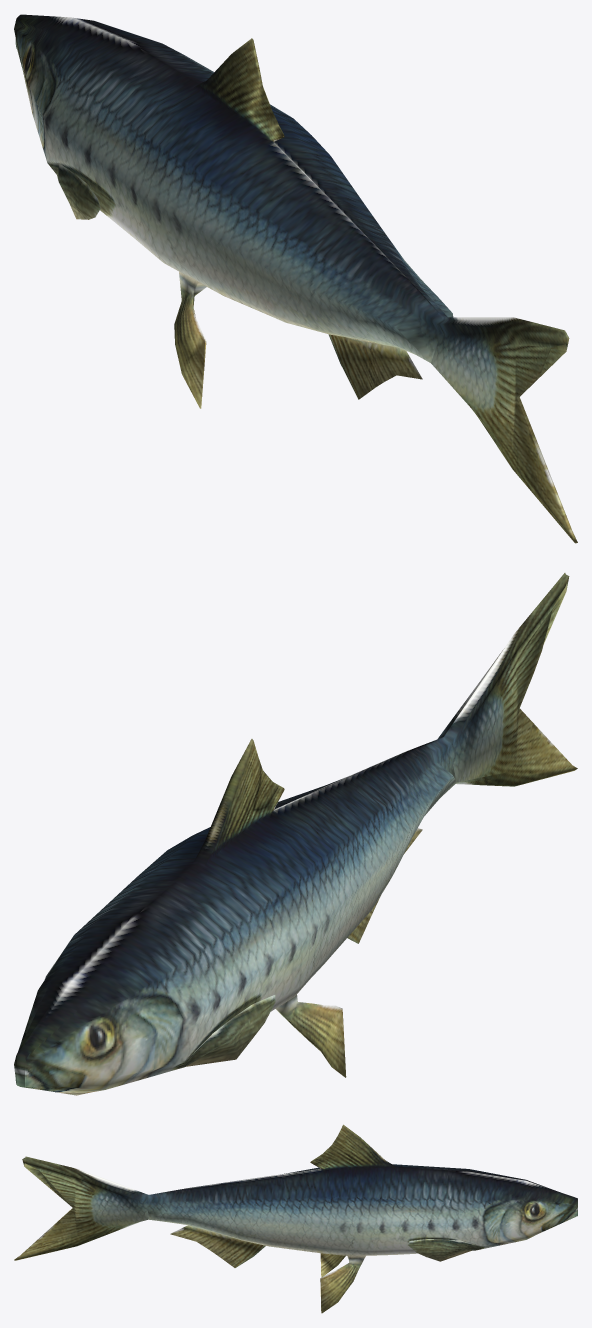
File: Sardine.fbx
The picture shows the model from 3 angles, top to bottom: view 1: azimuth 30°, elevation 25°; view 2: azimuth 150°, elevation 25°; view 3: azimuth 270°, elevation 25°; orthographic projection. The views are drawn at different scales.
Visible parts, largest first — view 1: Cube; view 2: Cube; view 3: Cube.
Boxes of the visible parts, x1=… form: Cube: x1=14, y1=14, x2=577, y2=543; Cube: x1=14, y1=573, x2=577, y2=1095; Cube: x1=14, y1=1124, x2=577, y2=1313.
Size of the model in its own units: 90.47 by 164 by 490.
